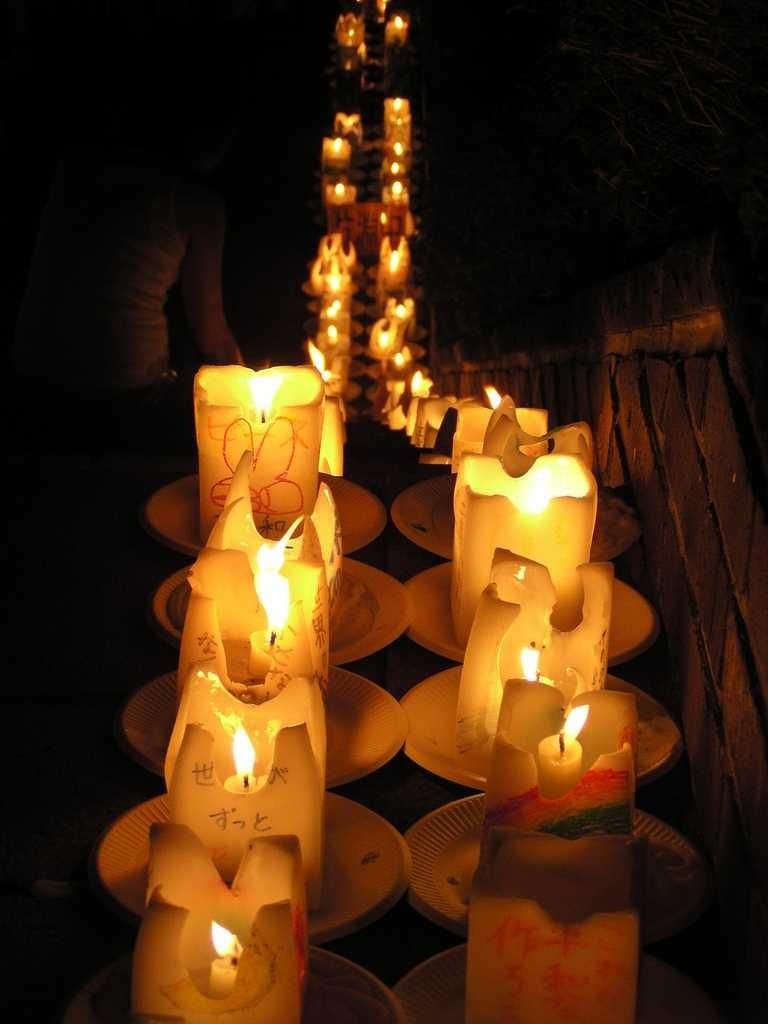fire: (231, 521, 323, 664), (467, 444, 598, 525), (187, 694, 286, 794), (181, 904, 275, 981), (523, 644, 590, 738), (241, 354, 305, 421)
